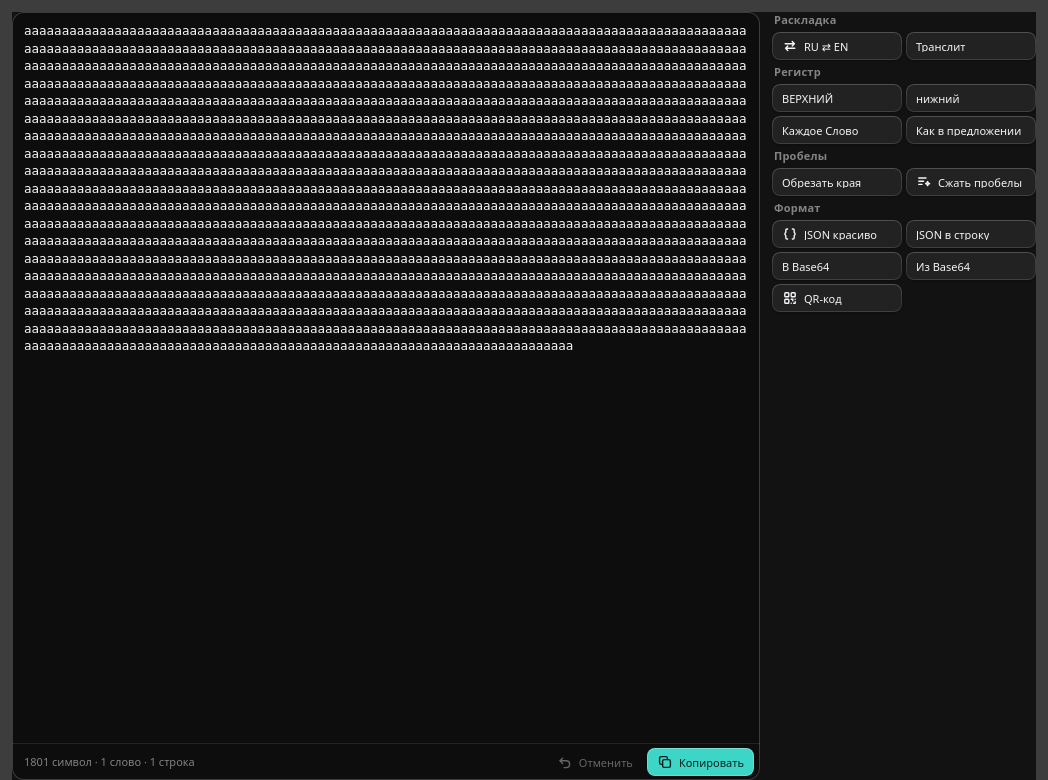
Test: shows the length error while keeping text editable
The image size is (1048, 780).
Click the button "QR-код": (837, 298) [772,284,902,312]
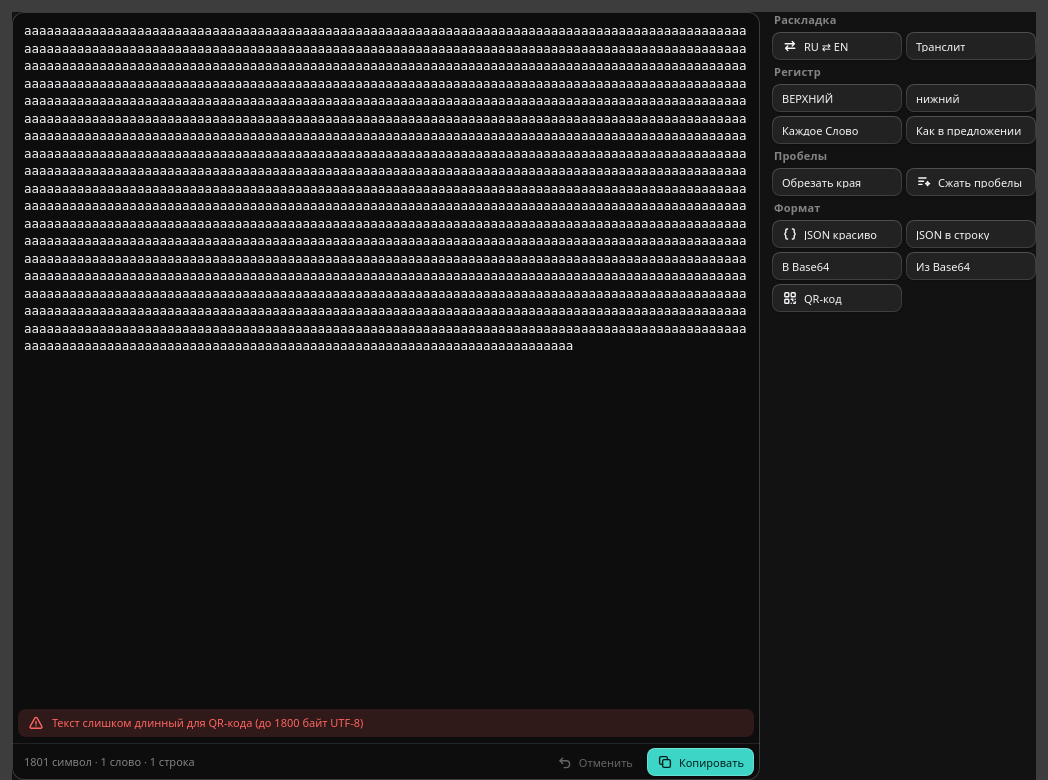
Now the message shows "1800", box [52,715,363,730]
